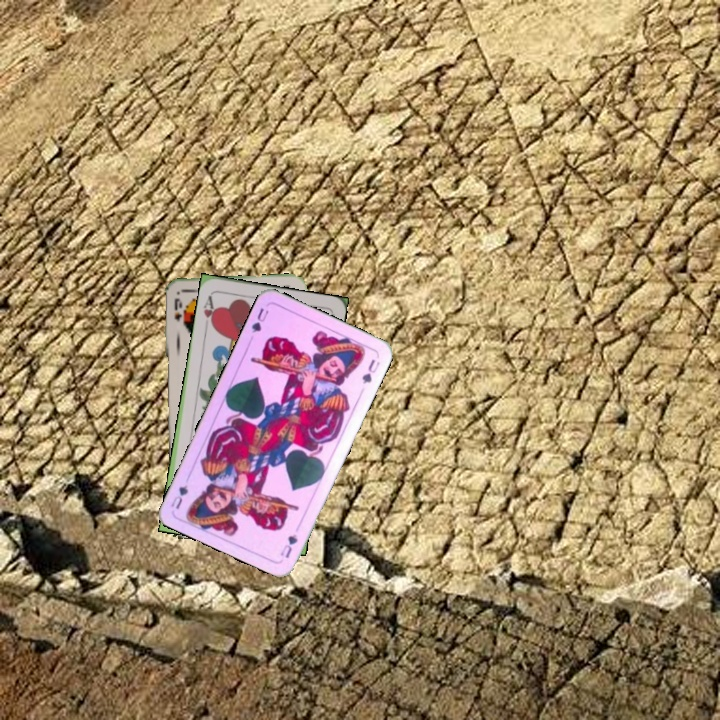GU: (276, 530, 301, 561), (247, 304, 271, 335)
HA: (199, 290, 219, 331)
SO: (170, 294, 184, 324)
